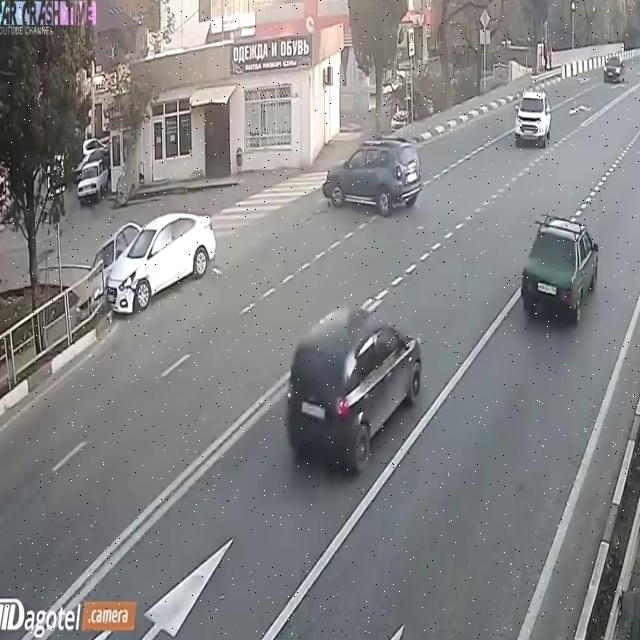accident: (84, 202, 221, 327)
